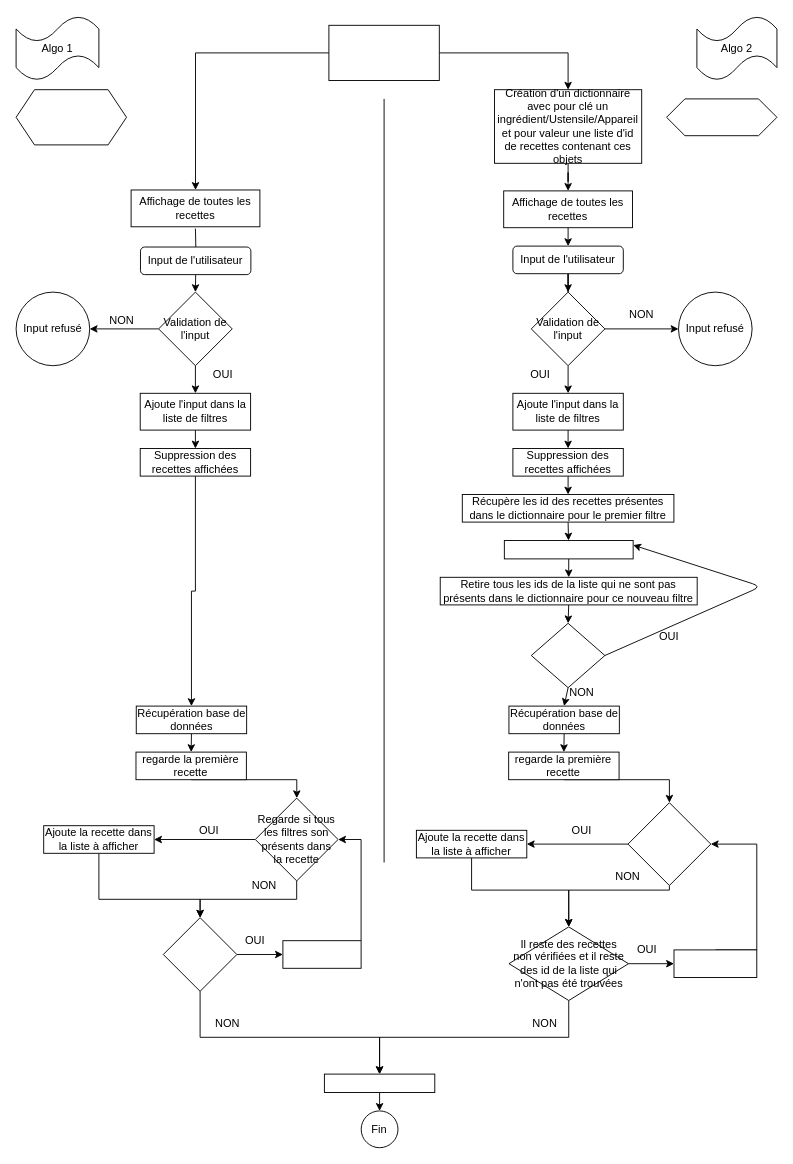
The diagram is 793 pixels wide and 1164 high, and some of its shapes have lost their labels. Each missing label, with the box of its shape:
Affiche les recettes: (323, 1073, 435, 1092)
id de la recette est dans la liste d'ids: (627, 802, 711, 886)
Il reste des recettes non vérifiées: (162, 917, 237, 991)
Initialisation du premier affichage de la page: (328, 24, 439, 80)
La liste est-elle vide ? n'y a-t-il plus de filtres?: (530, 622, 605, 688)
Prend la recette suivante: (673, 949, 757, 978)
Prend une nouvelle recette: (282, 940, 361, 968)
regarde le prochain filtre: (503, 540, 633, 559)
Utilisation de fonctions liées à l'objet: (15, 89, 126, 145)
Utilisation de fonctions natives: (666, 98, 777, 136)
